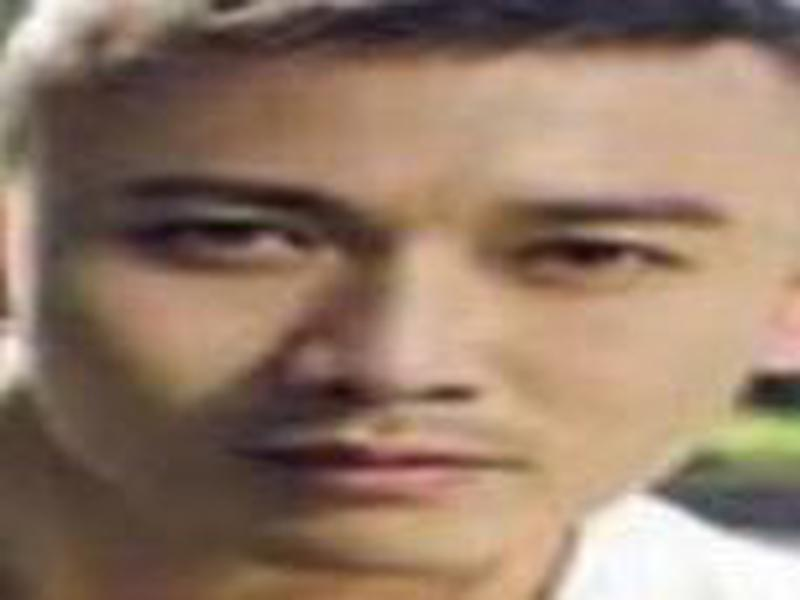without_mask: (16, 50, 800, 584)
